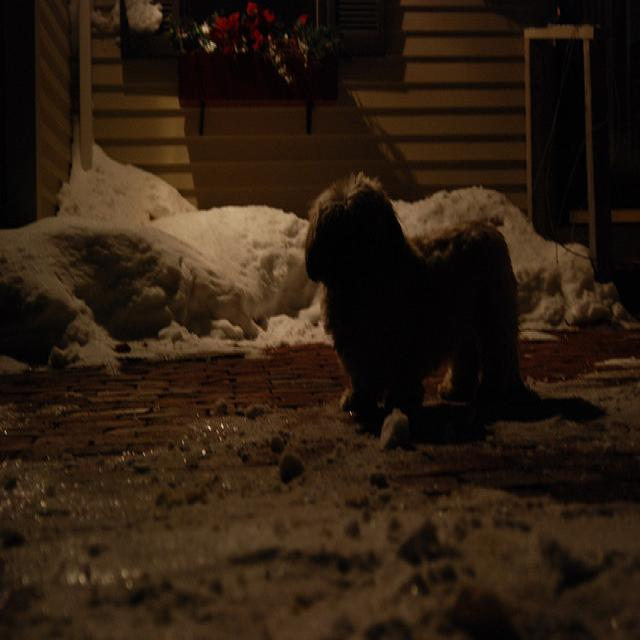Dog: (286, 199, 558, 447)
